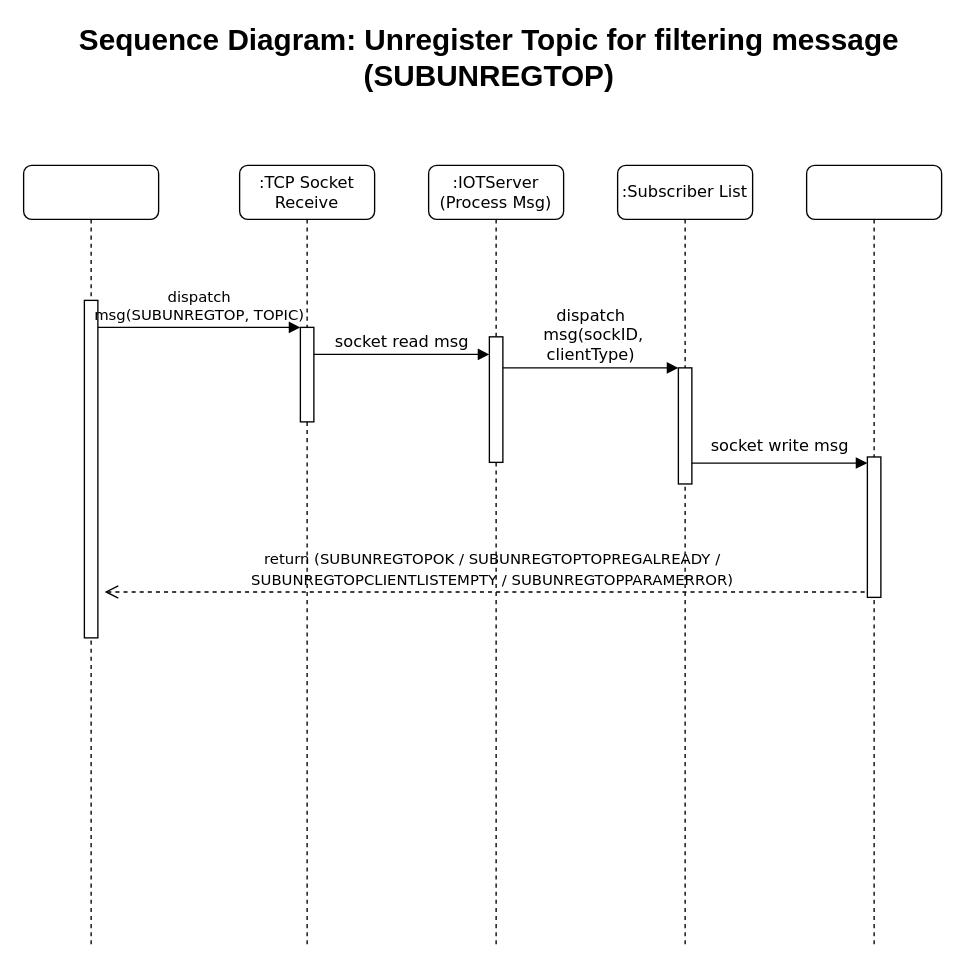
The diagram is 965 pixels wide and 972 high, and some of its shapes have lost their labels. Each missing label, with the box of its shape:
:IOTClient (Publisher): (22, 164, 159, 948)
:TCP Socket Send: (805, 164, 942, 948)
